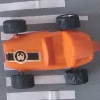naranja_oeste: (3, 15, 100, 89)
